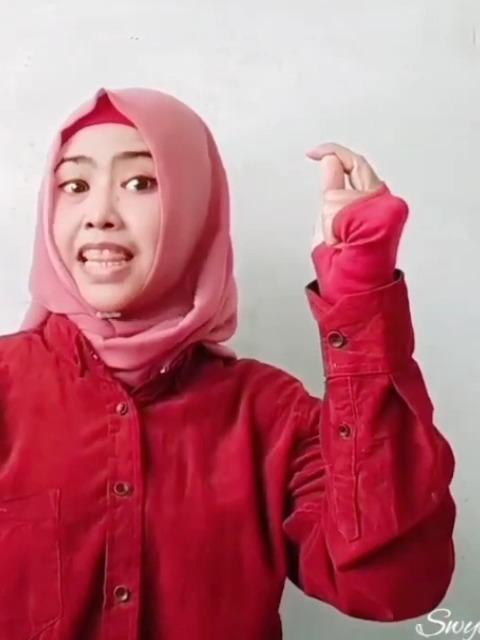T: (300, 137, 410, 307)
